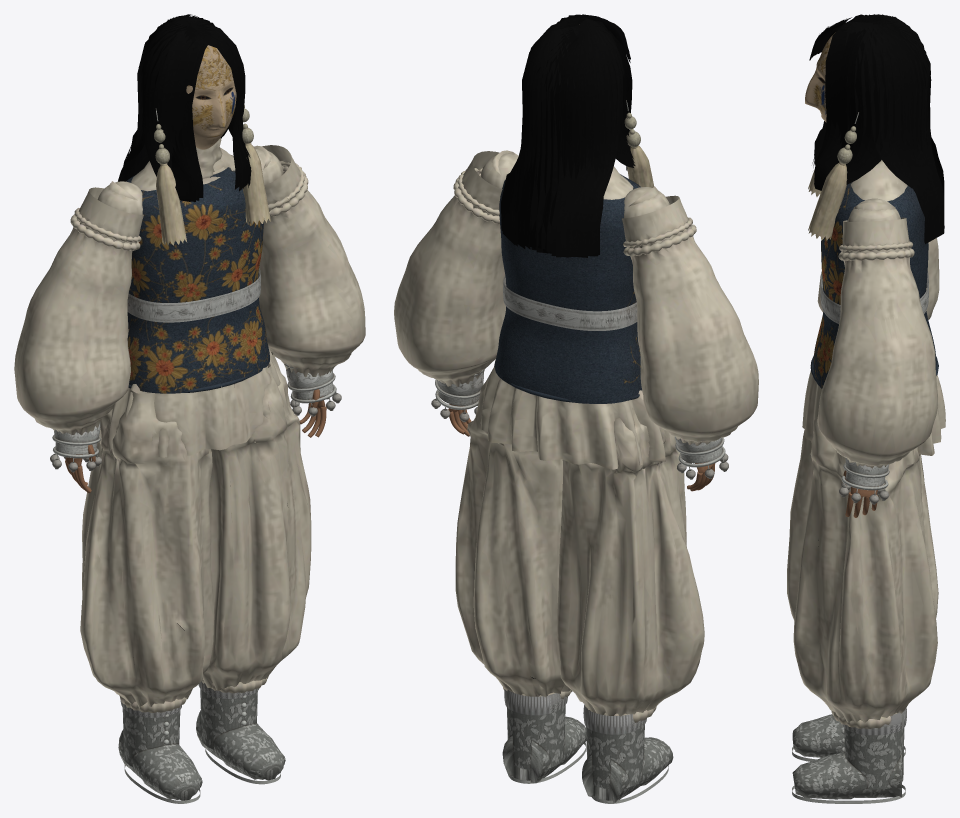
Rendered from arnavaz.glb.
3 views of the same model, side by side, from view 1: azimuth 30°, elevation 25°; view 2: azimuth 150°, elevation 25°; view 3: azimuth 270°, elevation 25° (orthographic). The views are drawn at different scales.
Parts seen in each view (by area): view 1: TrouserLeg, TrouserLeg.001, Vest, Sleeve, Sleeve.001, HairBase, TrouserTop, Mask, BootFoot.001, BootFoot, Arnavaz, Belt (+7 smaller); view 2: TrouserLeg, TrouserLeg.001, HairBase, Sleeve, Vest, Sleeve.001, TrouserTop, Belt, BootShaft.001, BootShaft, BootFoot, Arnavaz (+7 smaller); view 3: TrouserLeg.001, Sleeve.001, HairBase, Vest, TrouserLeg, BootFoot.001, BootShaft.001, BootFoot, TrouserTop, Tassel.001, Arnavaz, Torso (+12 smaller).
Part boxes in pixels (x1,y1,x2,y2): TrouserLeg: (80,390,214,708); TrouserLeg.001: (202,352,311,690); Vest: (126,167,269,393); Sleeve: (14,187,143,435); Sleeve.001: (259,145,365,377); HairBase: (118,14,251,201); TrouserTop: (98,349,280,457); Mask: (186,45,236,149); BootFoot.001: (196,710,285,780); BootFoot: (118,729,202,800); Arnavaz: (50,24,341,752); Belt: (127,268,260,322); TrouserLeg: (557,407,704,716); TrouserLeg.001: (455,359,572,697); HairBase: (501,17,635,257); Sleeve: (622,195,758,445); Vest: (495,174,641,403); Sleeve.001: (394,151,505,386); TrouserTop: (480,367,670,469); Belt: (503,275,637,330); BootShaft.001: (507,705,565,769); BootShaft: (586,724,644,789); BootFoot: (582,737,673,802); Arnavaz: (431,24,728,479); TrouserLeg.001: (793,416,937,723); Sleeve.001: (817,217,937,468); HairBase: (814,14,944,244); Vest: (813,182,936,388); TrouserLeg: (787,429,938,620); BootFoot.001: (792,752,901,799); BootShaft.001: (844,728,904,789); BootFoot: (792,714,844,757); TrouserTop: (802,370,945,464); Tassel.001: (808,163,847,240); Arnavaz: (810,22,938,756); Torso: (851,160,907,201).
Size of the model in its own units: 0.8803 by 1.83 by 0.349.
Materials: 6 (6 with a texture image).
